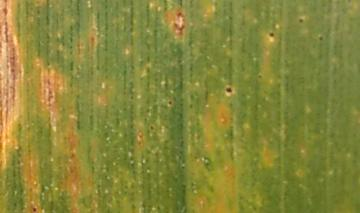tarspot: (222, 85, 236, 96), (164, 98, 175, 108), (315, 32, 326, 42), (266, 30, 276, 40), (296, 16, 306, 25), (147, 124, 158, 132), (30, 205, 40, 213), (256, 72, 264, 81)
